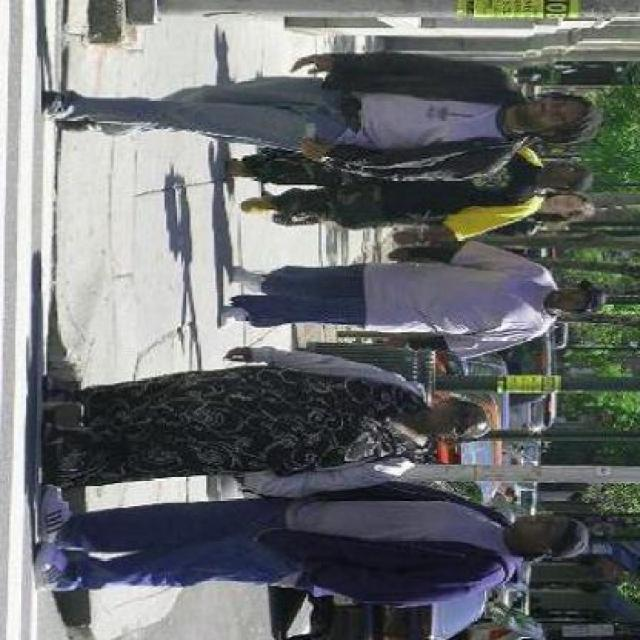Person: (32, 480, 590, 626), (20, 44, 602, 150), (24, 357, 487, 489), (206, 242, 606, 360), (218, 137, 592, 240)
